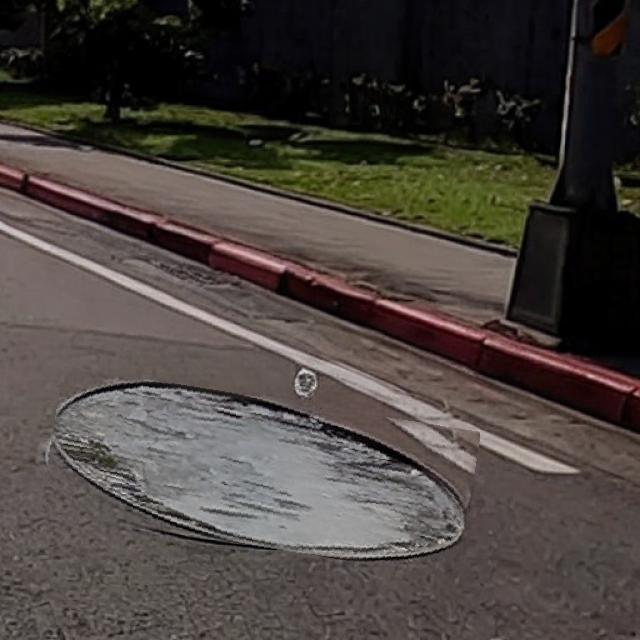puddle: (46, 383, 477, 563)
